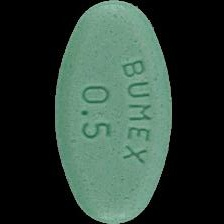42799-119: (0, 0, 224, 224)
